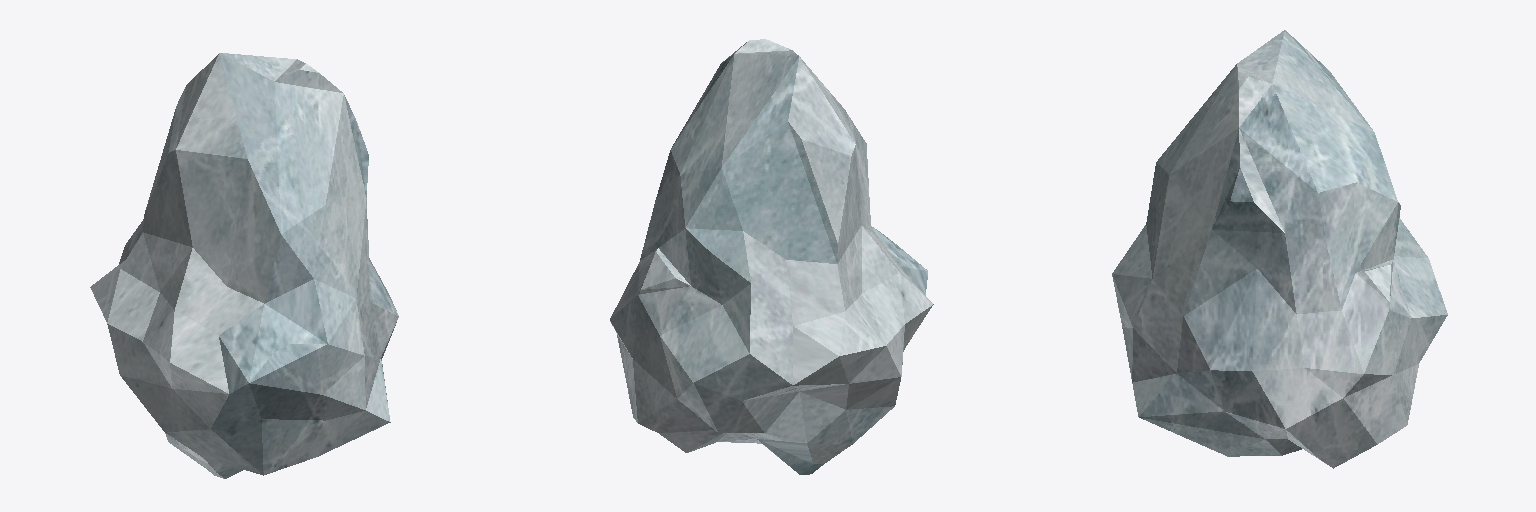
3 views of the same model, side by side, from view 1: azimuth 30°, elevation 25°; view 2: azimuth 150°, elevation 25°; view 3: azimuth 270°, elevation 25° (orthographic).
Visible parts, largest first — view 1: CUPIC_ICEBERG; view 2: CUPIC_ICEBERG; view 3: CUPIC_ICEBERG.
Boxes of the visible parts, <box> form: CUPIC_ICEBERG: <box>90,53,398,478</box>; CUPIC_ICEBERG: <box>610,39,933,474</box>; CUPIC_ICEBERG: <box>1112,30,1447,468</box>.
Size of the model in its own units: 382 by 568 by 412.
Materials: 1 (1 with a texture image).